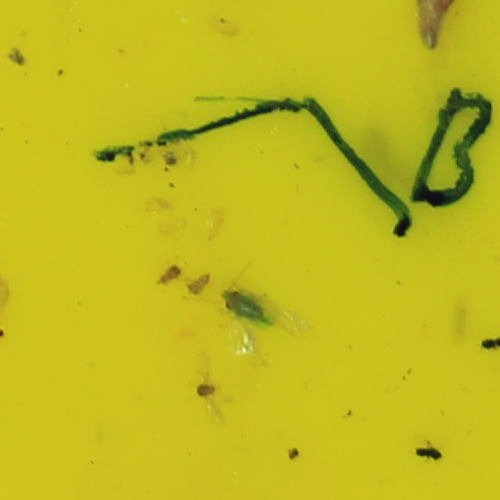psylla: (218, 288, 274, 328), (187, 273, 211, 296), (160, 261, 185, 283), (190, 381, 219, 395)
